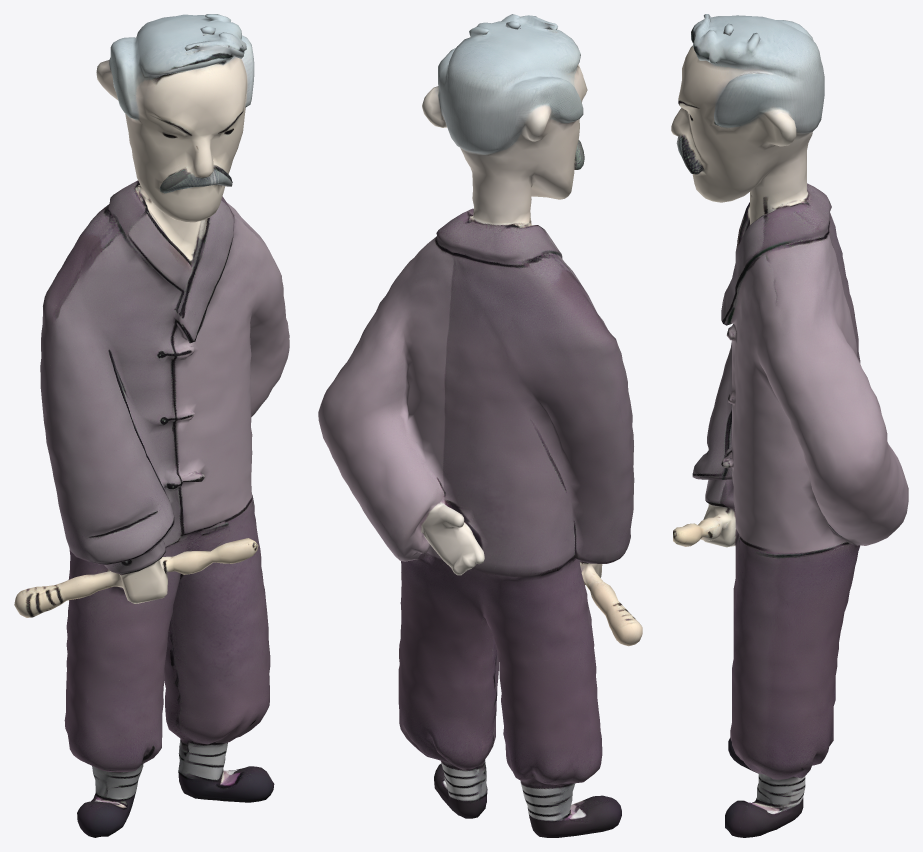
The model's file is Meshy_AI_선생님4_0422052924_texture.fbx.
The picture shows the model from 3 angles, left to right: view 1: azimuth 30°, elevation 25°; view 2: azimuth 150°, elevation 25°; view 3: azimuth 270°, elevation 25°; orthographic projection.
Parts seen in each view (by area): view 1: Mesh_0; view 2: Mesh_0; view 3: Mesh_0.
Part boxes in pixels (x1,y1,x2,y2): Mesh_0: (14,14,289,837); Mesh_0: (318,14,642,837); Mesh_0: (671,14,908,837).
Size of the model in its own units: 73.97 by 190 by 52.05.
1 material, 1 textured.
